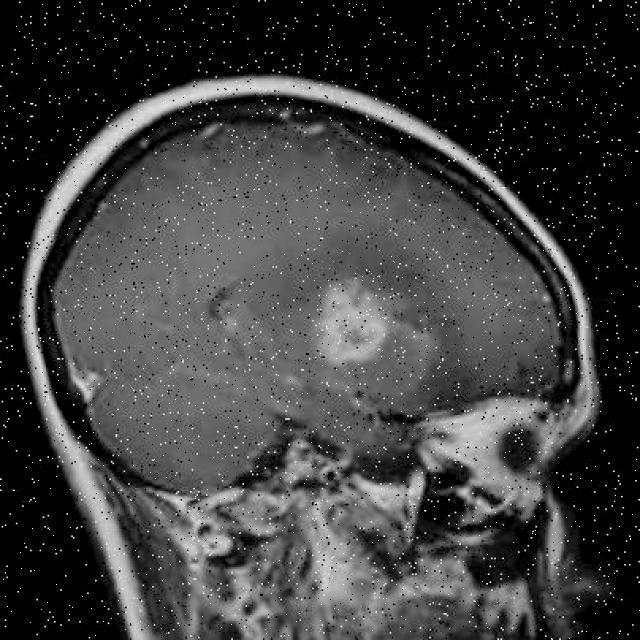MCI: (275, 264, 465, 398)
